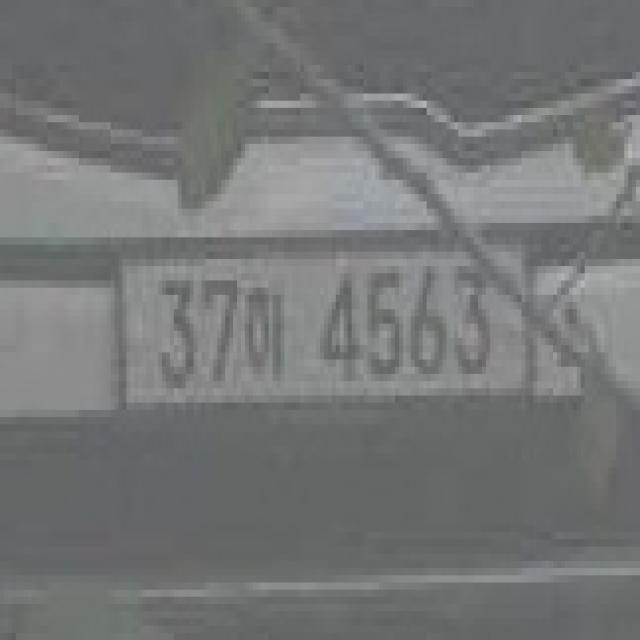3: (450, 259, 494, 381), (158, 274, 198, 388)
4: (316, 266, 360, 381)
5: (363, 266, 403, 381)
6: (411, 266, 446, 381)
7: (202, 273, 237, 381)
ha: (241, 281, 288, 381)
license_plate: (122, 237, 538, 417)
